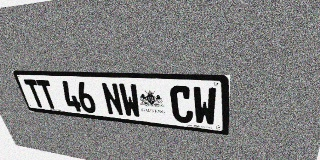4: (59, 81, 83, 112)
6: (74, 81, 98, 113)
C: (169, 85, 194, 124)
N: (100, 82, 124, 116)
T: (23, 79, 46, 108), (36, 80, 59, 109)
W: (192, 86, 217, 126), (118, 83, 142, 118)
